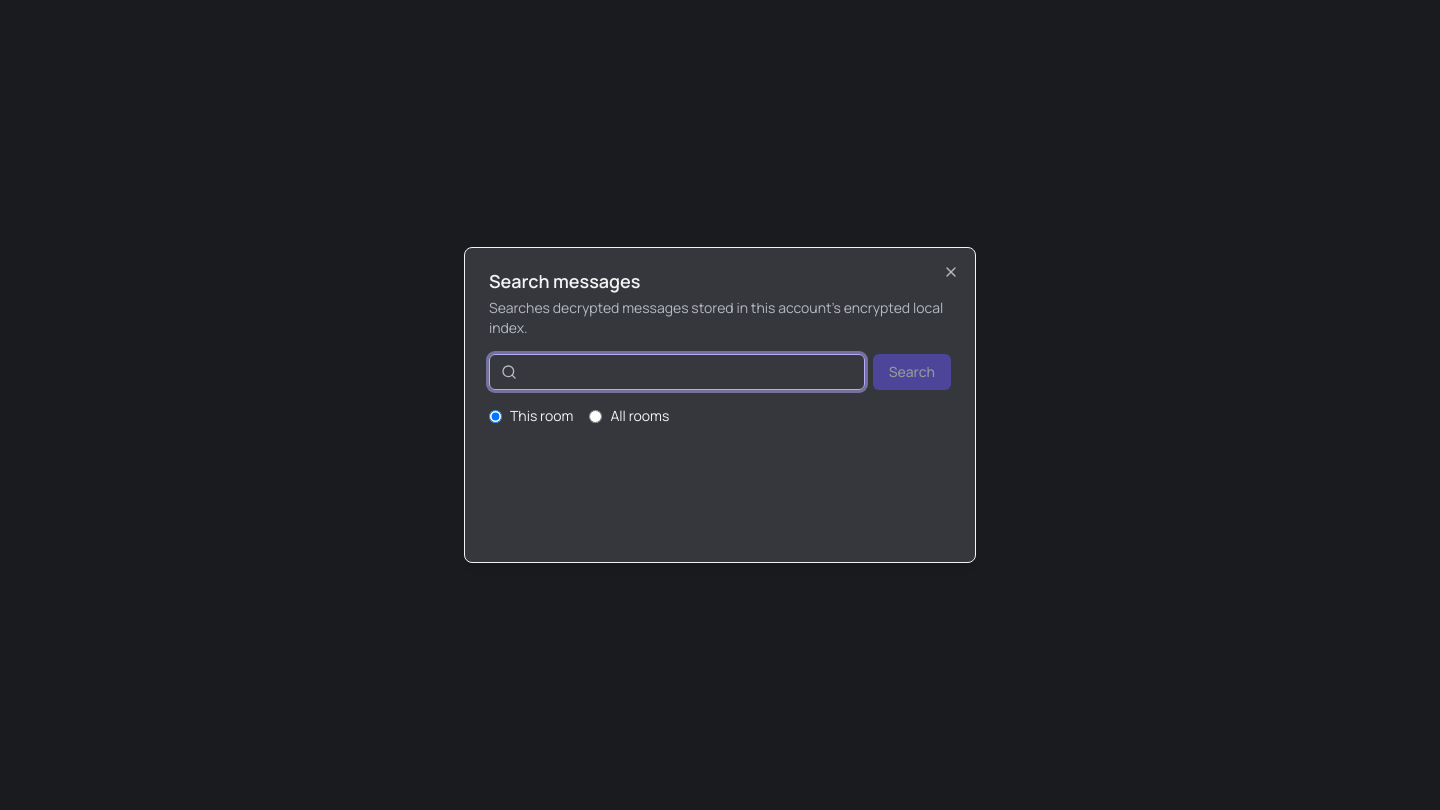
Test: MessageSearchDialog › shows a generic error after an asynchronous backend failure
Step 1. Type "private phrase" into the search field named "Message search query" → (677, 372), box [489,354,865,390]
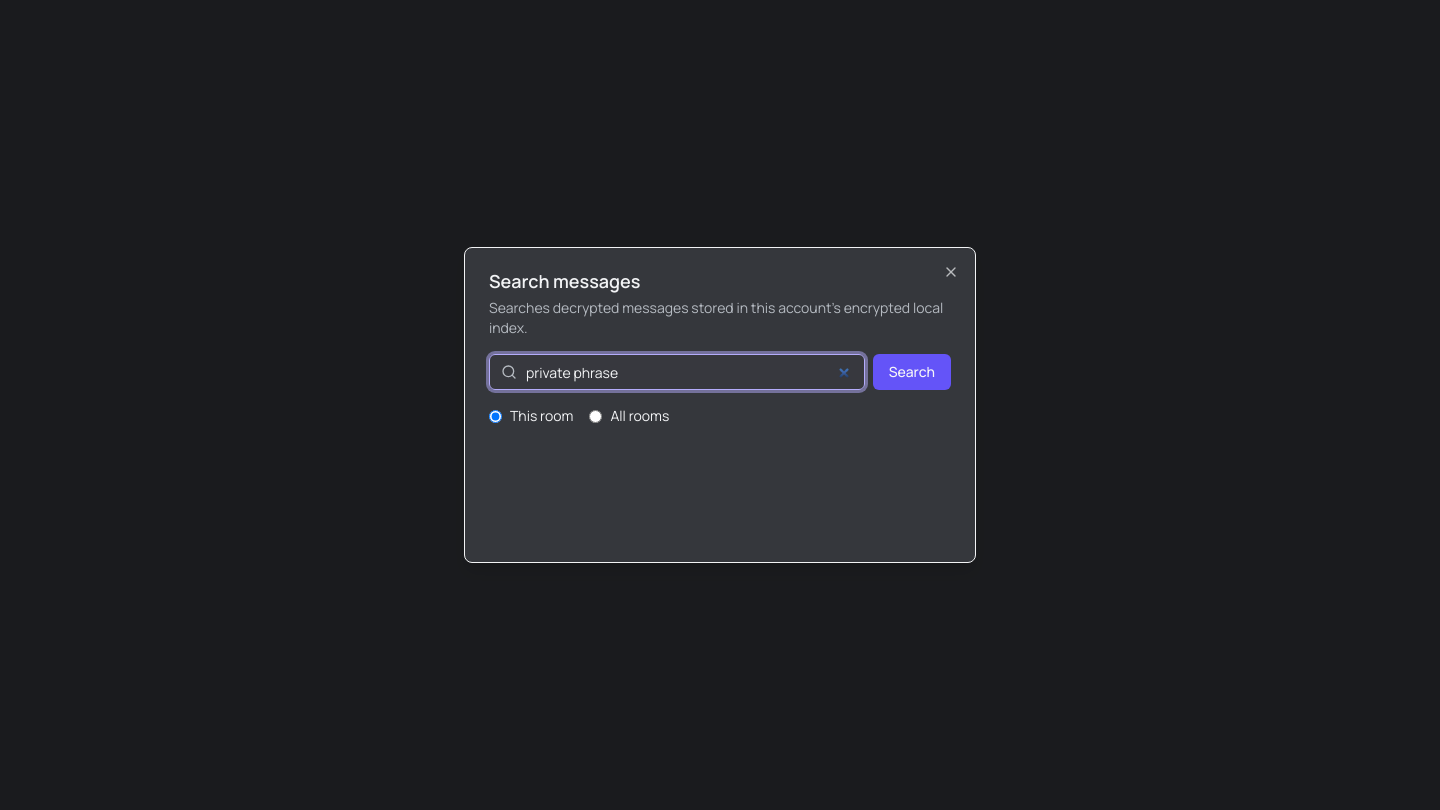
Step 2. Click the button "Search" → (912, 372), box [873,354,951,390]
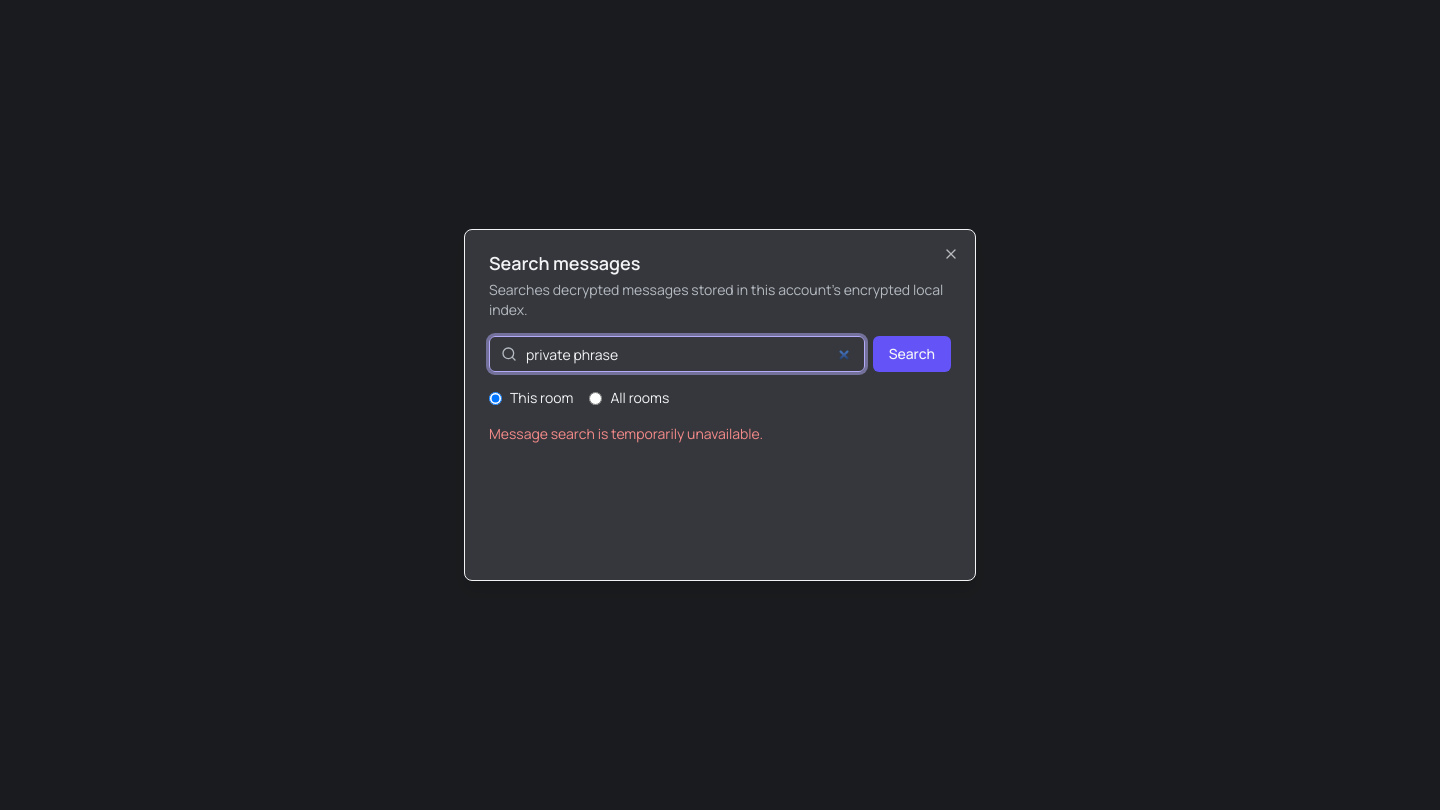
Expected: the message does not show "private phrase", [489,424,763,443]
Now the message reads "Message search is temporarily unavailable.", box [489,424,763,443]
